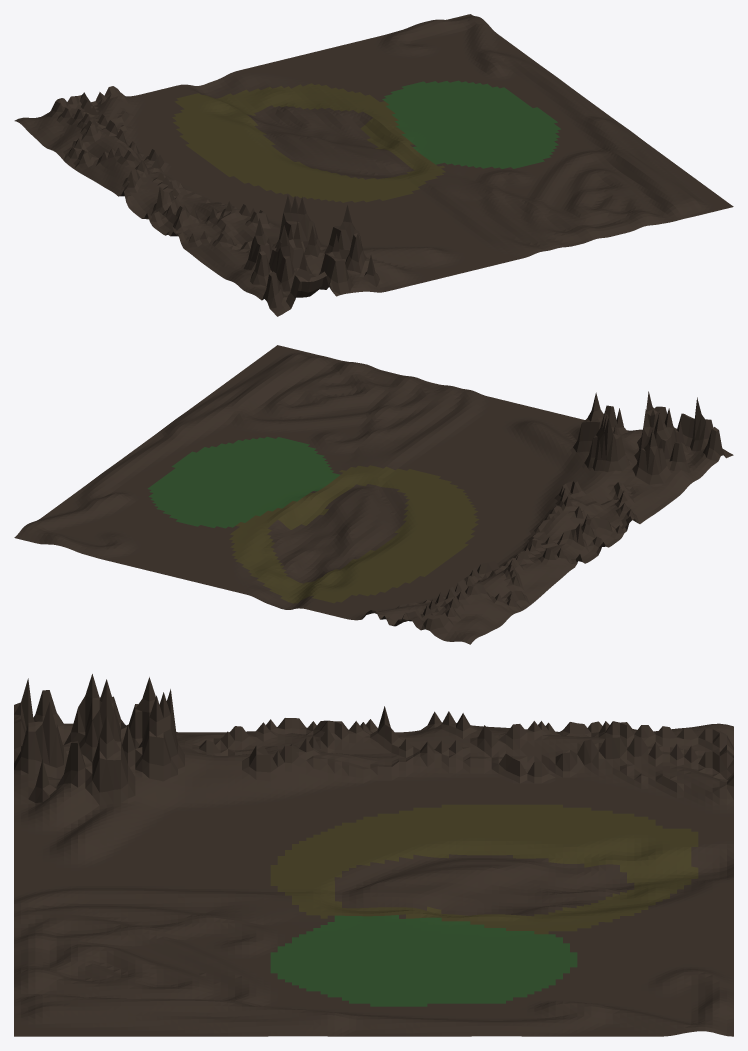
File: terrainobj.obj
3 renders of one model, top to bottom at view 1: azimuth 30°, elevation 25°; view 2: azimuth 150°, elevation 25°; view 3: azimuth 270°, elevation 25°, orthographic. The views are drawn at different scales.
Visible parts, largest first — view 1: Plane; view 2: Plane; view 3: Plane.
Boxes of the visible parts, bbox=[...] form: Plane: bbox=[14, 14, 733, 316]; Plane: bbox=[14, 345, 733, 644]; Plane: bbox=[14, 674, 733, 1036].
Size of the model in its own units: 100 by 16.22 by 100.
